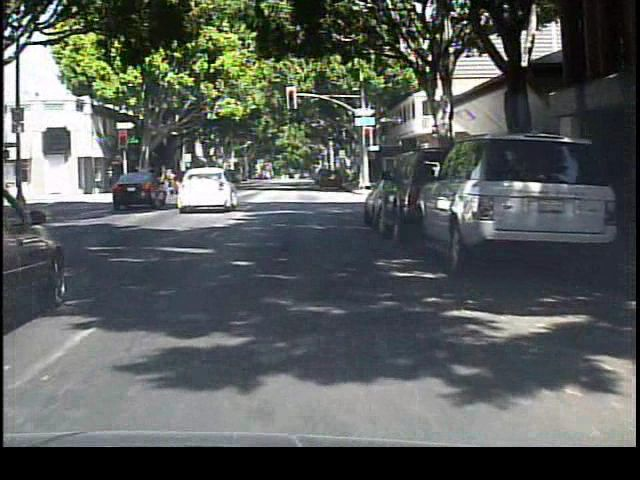person: (163, 163, 180, 202)
